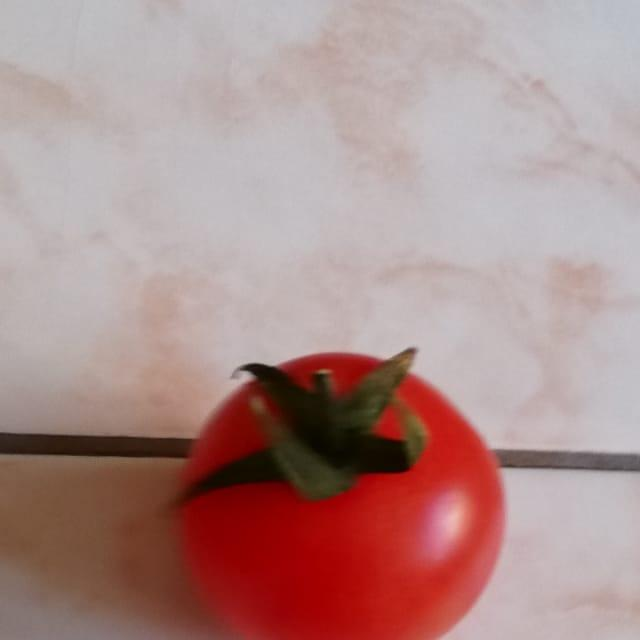tomato: (152, 312, 522, 640)
